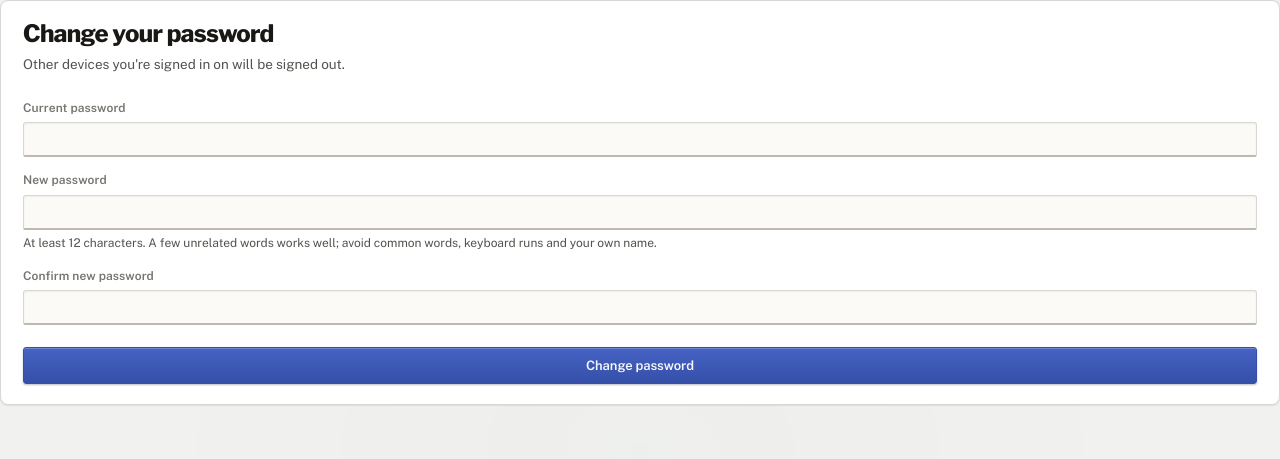
Test: ChangePasswordForm › needs the current password
Step 1. Type "a-much-better-passphrase" into the password field labelled "New password" → {"x": 640, "y": 212}, box x1=23 y1=195 x2=1257 y2=230
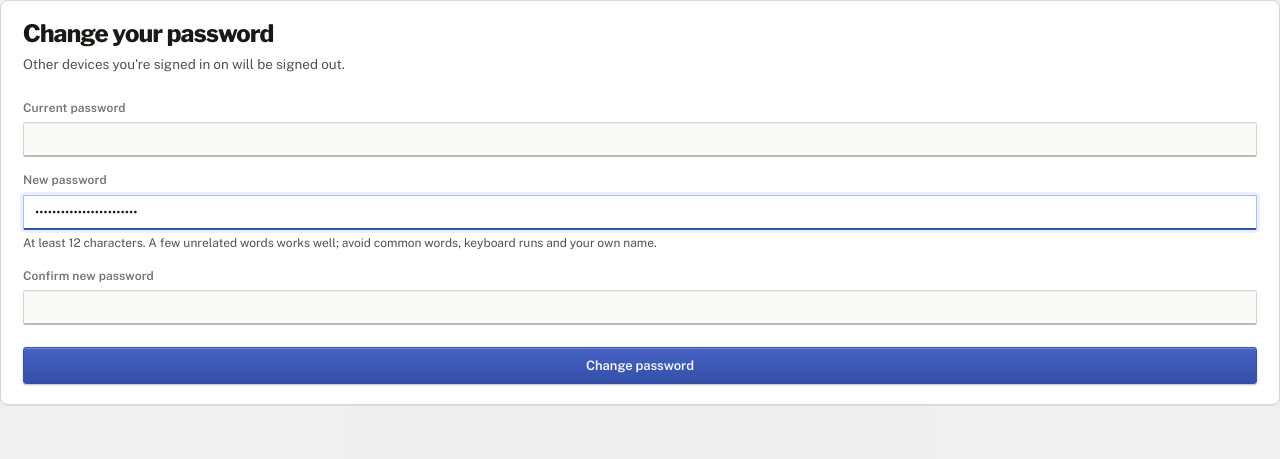
Step 2. Type "a-much-better-passphrase" into the password field labelled "Confirm new password" → {"x": 640, "y": 308}, box x1=23 y1=290 x2=1257 y2=325
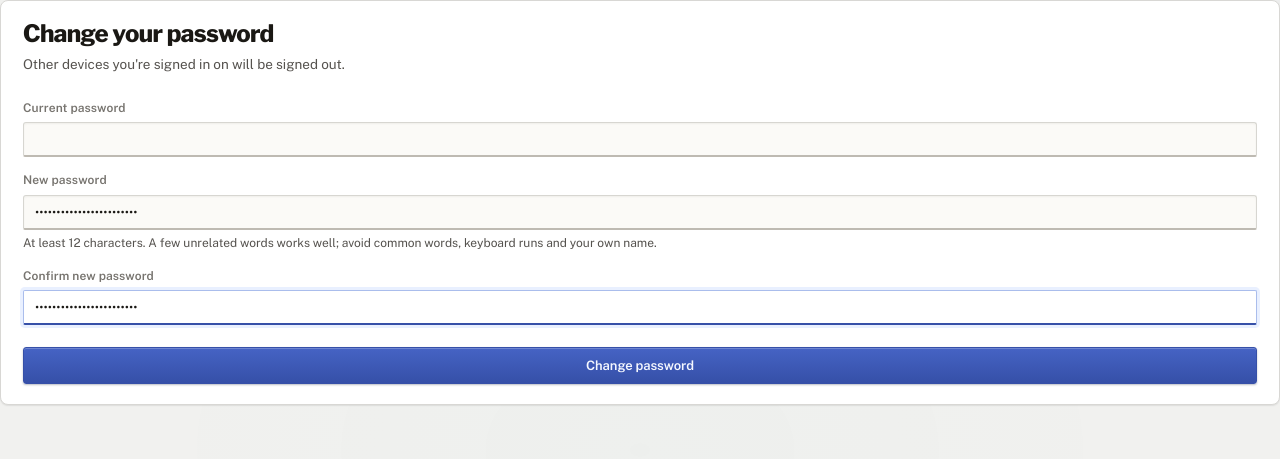
Step 3. Click the button "Change password" → {"x": 640, "y": 366}, box x1=23 y1=347 x2=1257 y2=384
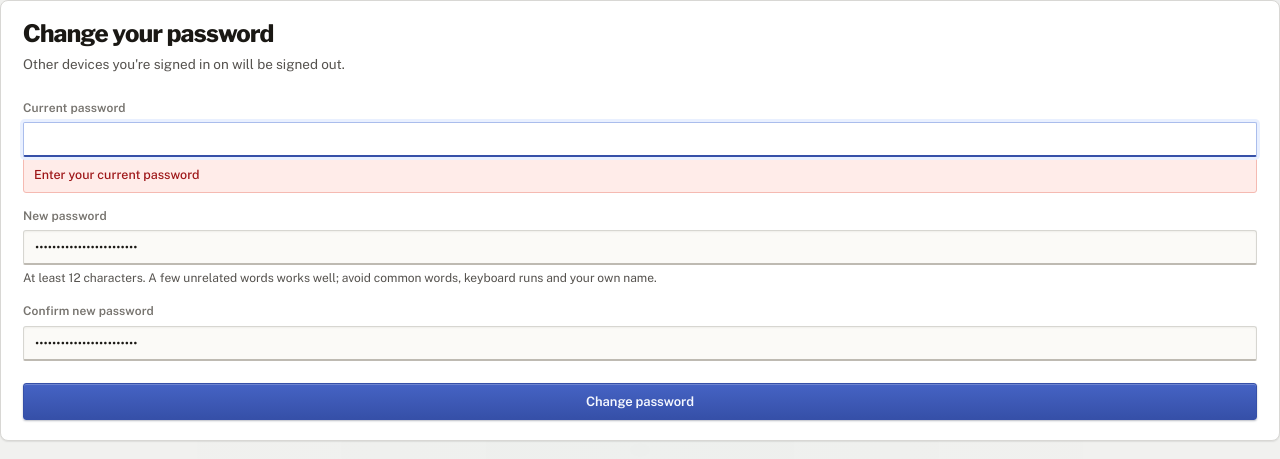
Expected: the text "Enter your current password" is shown, x1=23 y1=157 x2=1257 y2=193
